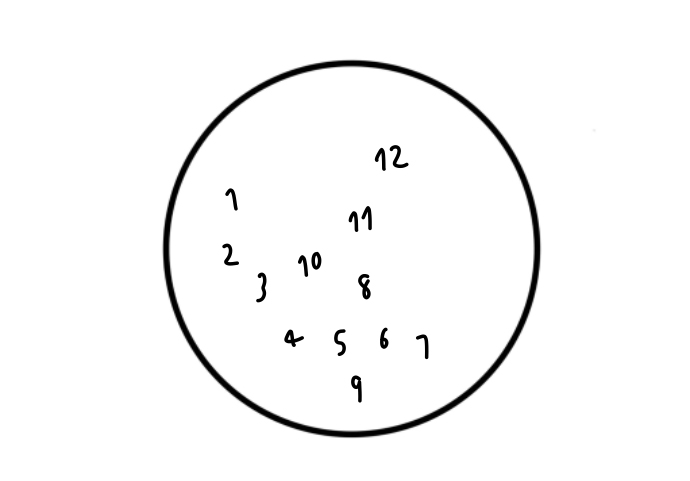eight: (357, 271, 375, 301)
eleven: (347, 204, 374, 234)
five: (331, 326, 352, 360)
four: (281, 326, 306, 351)
nine: (350, 371, 366, 411)
one: (225, 187, 242, 213)
seven: (414, 332, 431, 364)
six: (376, 322, 391, 351)
ten: (298, 247, 323, 277)
three: (254, 269, 270, 304)
twelve: (373, 142, 409, 176)
two: (221, 238, 240, 266)
